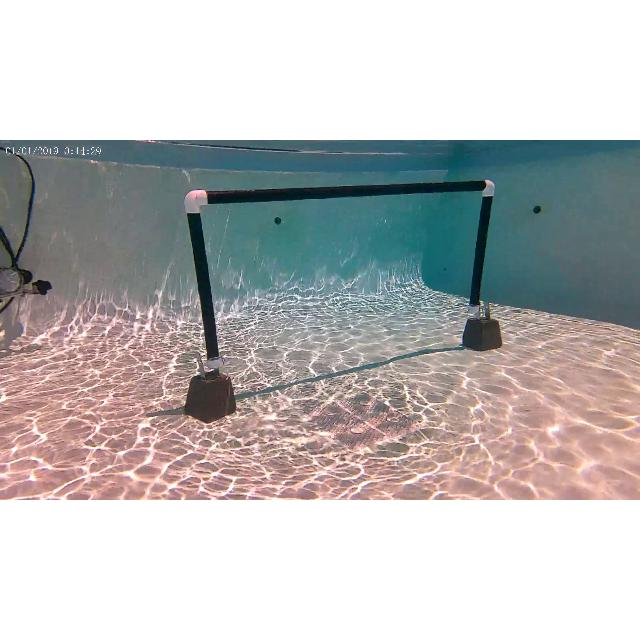prequal gate: (184, 178, 496, 370)
prequal gate leg l: (178, 184, 232, 420)
prequal gate leg r: (463, 173, 507, 353)
